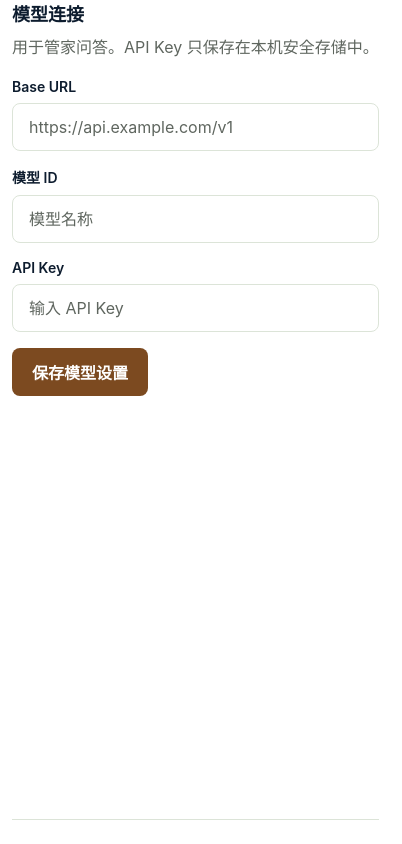
model settings save a bearer configuration without displaying the stored key
In the field named "Base URL": (195, 127) x1=12 y1=103 x2=379 y2=151, type "https://provider.example/v1"
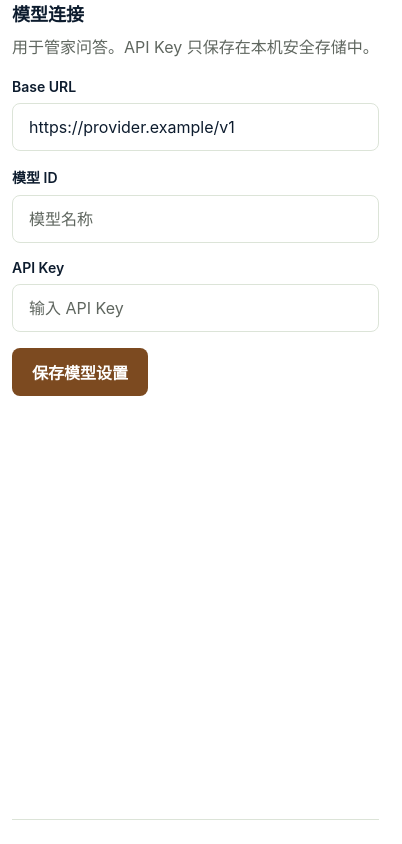
In the field named "模型 ID": (195, 219) x1=12 y1=195 x2=379 y2=243, type "alpha-model"
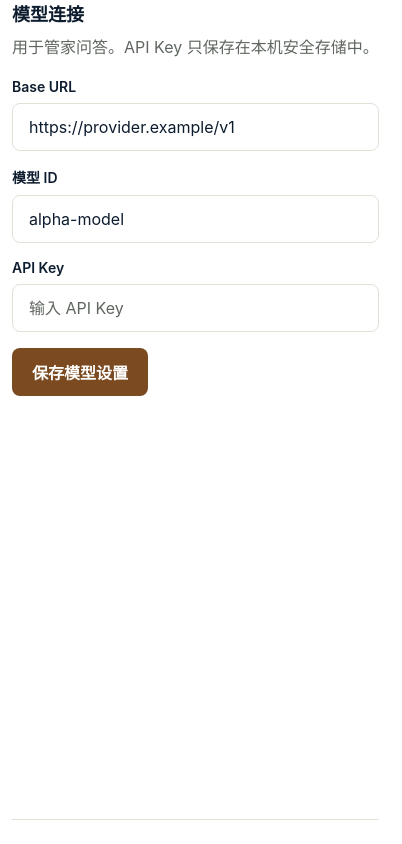
In the password field labelled "API Key": (195, 308) x1=12 y1=284 x2=379 y2=332, type "stored-secret"
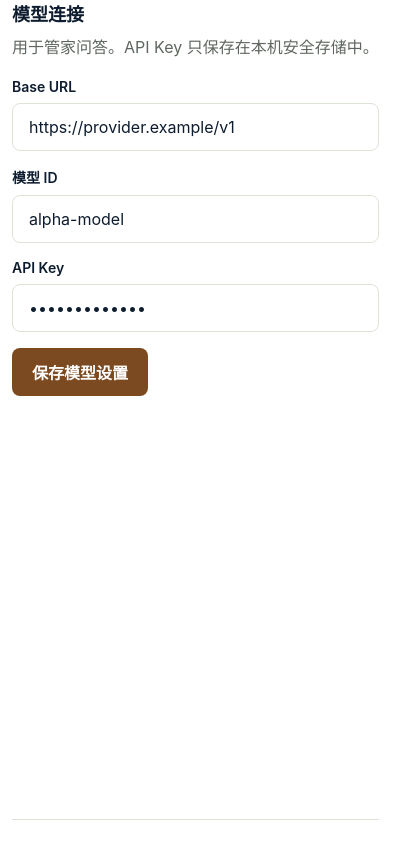
Click the button "保存模型设置": (80, 372) x1=12 y1=348 x2=148 y2=396
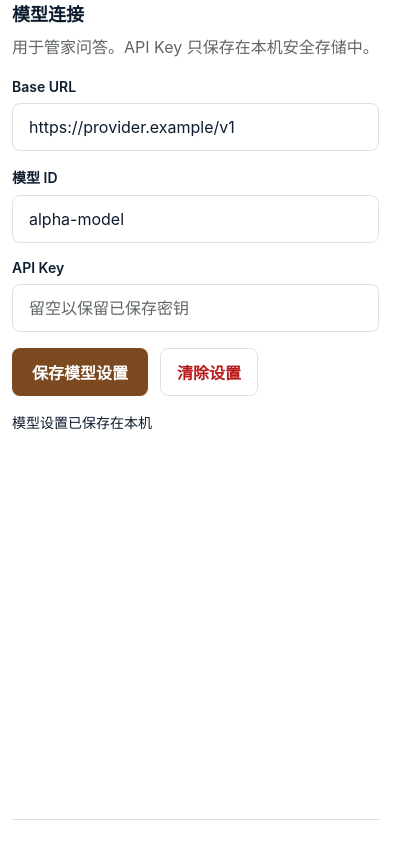
expect the text "模型设置已保存在本机" is shown: met, box x1=12 y1=414 x2=152 y2=431
expect the password field named "API Key" is empty: met, box x1=12 y1=284 x2=379 y2=332
